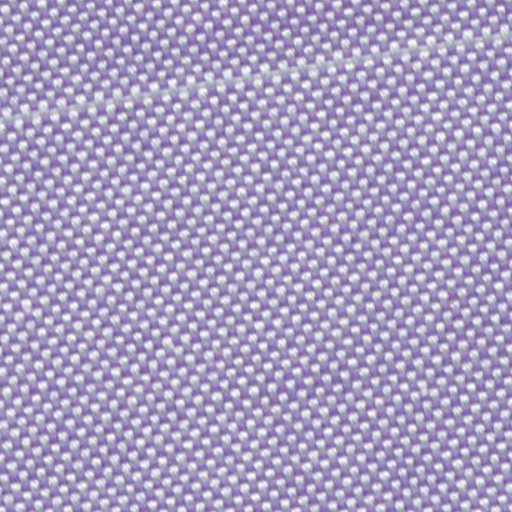TuoSha: (9, 22, 504, 146)
